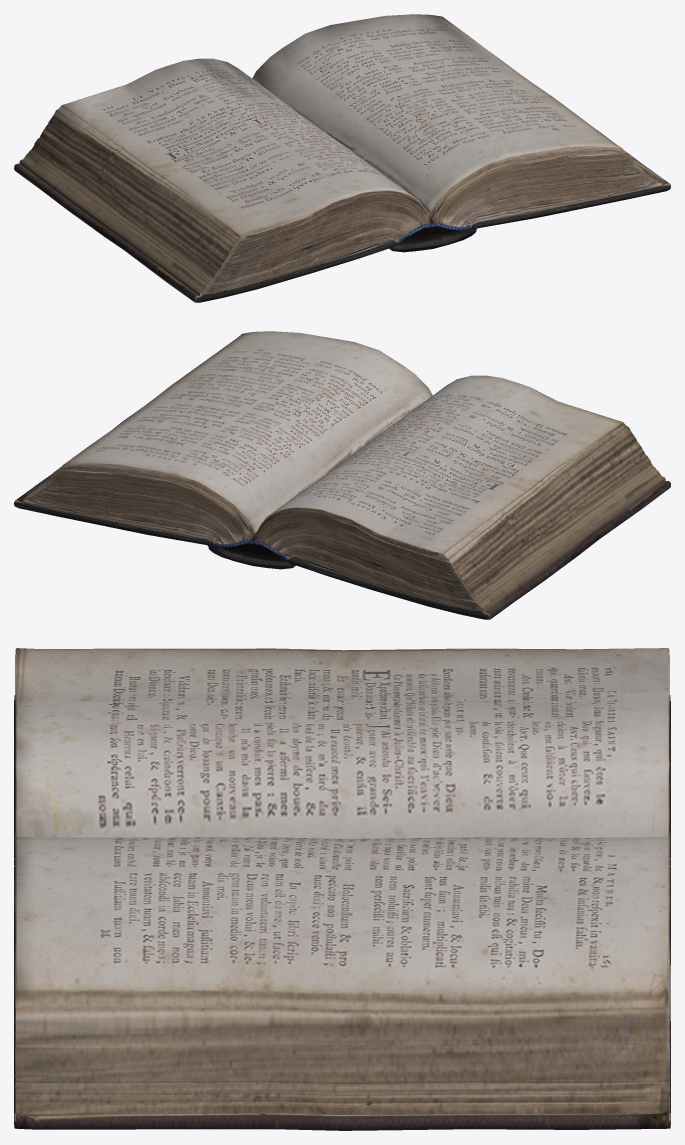
The model's file is Antique book.FBX.
3 renders of one model, top to bottom at view 1: azimuth 30°, elevation 25°; view 2: azimuth 150°, elevation 25°; view 3: azimuth 270°, elevation 25°, orthographic. The views are drawn at different scales.
Parts seen in each view (by area): view 1: antique book; view 2: antique book; view 3: antique book.
Part boxes in pixels (x1,y1,x2,y2): antique book: (14, 14, 670, 302); antique book: (14, 331, 670, 619); antique book: (14, 648, 670, 1130).
Size of the model in its own units: 32.59 by 4.83 by 21.45.
Materials: 1 (1 with a texture image).
